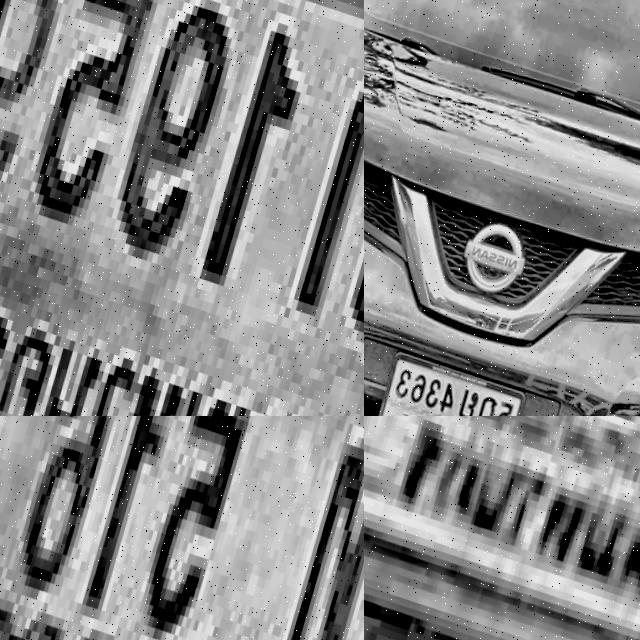license-plate: (0, 0, 364, 416), (0, 416, 364, 640), (364, 416, 640, 640), (374, 339, 535, 416)
